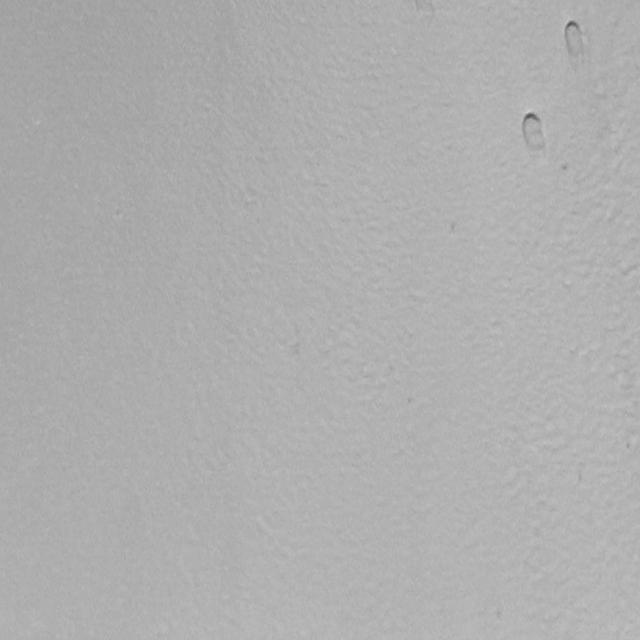pin holes: (517, 109, 554, 163), (560, 19, 590, 66)
